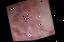plaque psoriasis: (4, 0, 57, 42), (43, 0, 49, 2)
